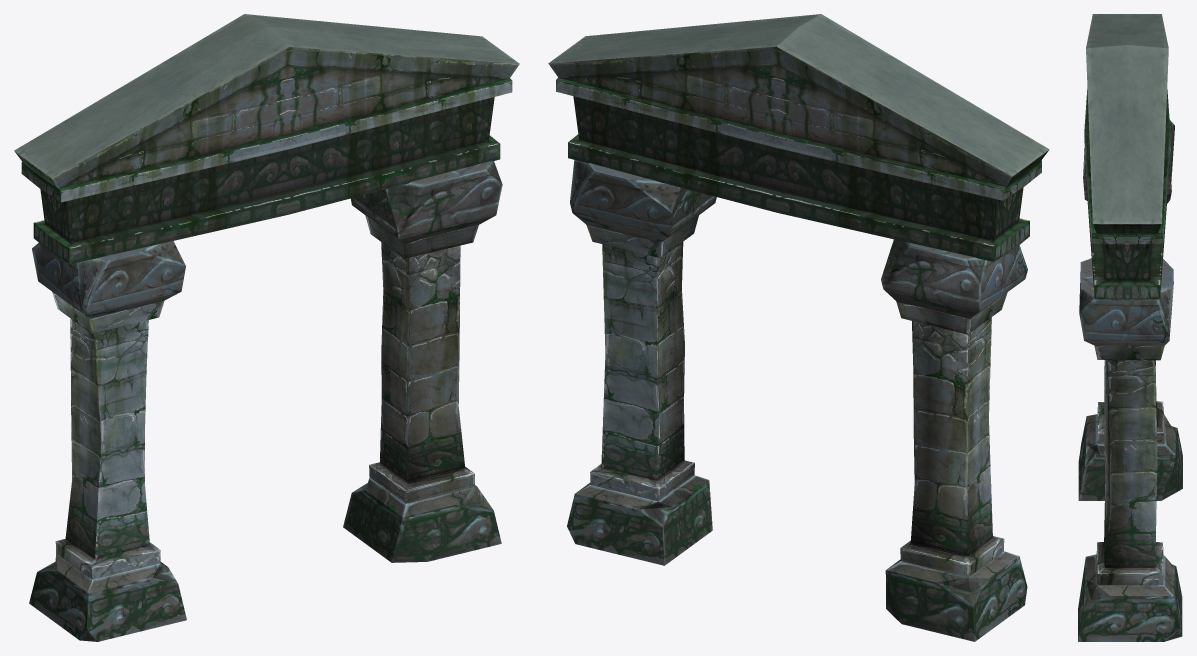
Rendered from stemple_pediment_02.fbx.
3 views of the same model, side by side, from view 1: azimuth 30°, elevation 25°; view 2: azimuth 150°, elevation 25°; view 3: azimuth 270°, elevation 25° (orthographic). The views are drawn at different scales.
Visible parts, largest first — view 1: stemple_pediment_02-0; view 2: stemple_pediment_02-0; view 3: stemple_pediment_02-0.
Boxes of the visible parts, x1,y1,x2,y2 form: stemple_pediment_02-0: (14, 14, 519, 641); stemple_pediment_02-0: (548, 14, 1049, 641); stemple_pediment_02-0: (1078, 14, 1182, 641).
Bounding box in the file's own units: 7.17 × 8.02 × 1.51.
